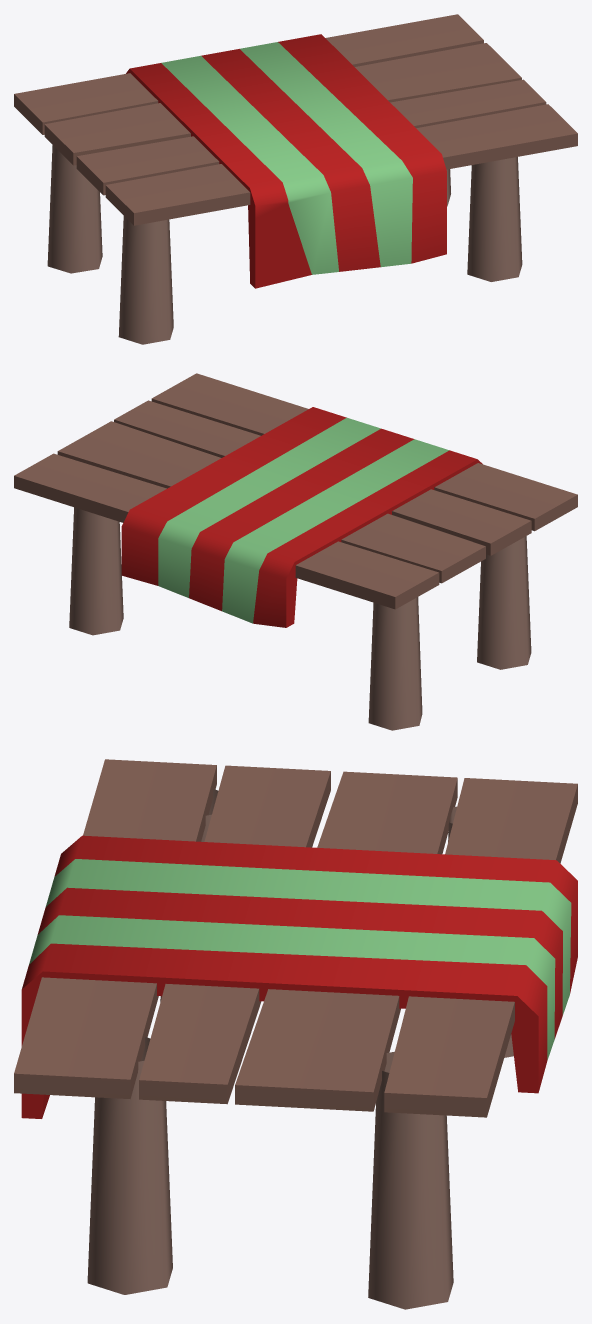
File: n4_table_001_lev4.glb
3 renders of one model, top to bottom at view 1: azimuth 30°, elevation 25°; view 2: azimuth 150°, elevation 25°; view 3: azimuth 270°, elevation 25°, orthographic. The views are drawn at different scales.
Parts seen in each view (by area): view 1: n4_table_001_lev4; view 2: n4_table_001_lev4; view 3: n4_table_001_lev4.
Part boxes in pixels (x1,y1,x2,y2): n4_table_001_lev4: (14,14,577,344); n4_table_001_lev4: (14,373,577,730); n4_table_001_lev4: (14,759,577,1309).
Size of the model in its own units: 4.48 by 1.5 by 3.15.
Materials: 1 (1 with a texture image).
